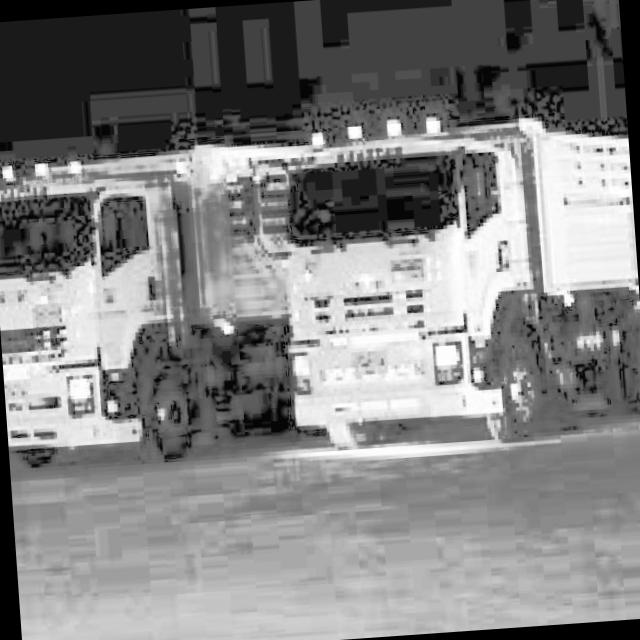Truck: (271, 99, 640, 457), (0, 133, 341, 474)
